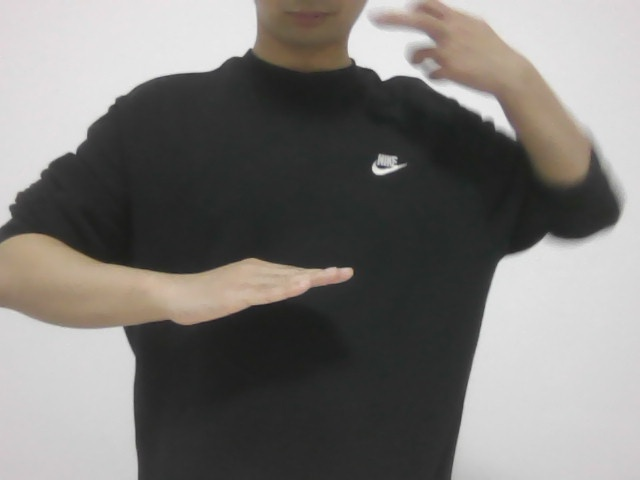safe: (151, 239, 366, 337)
